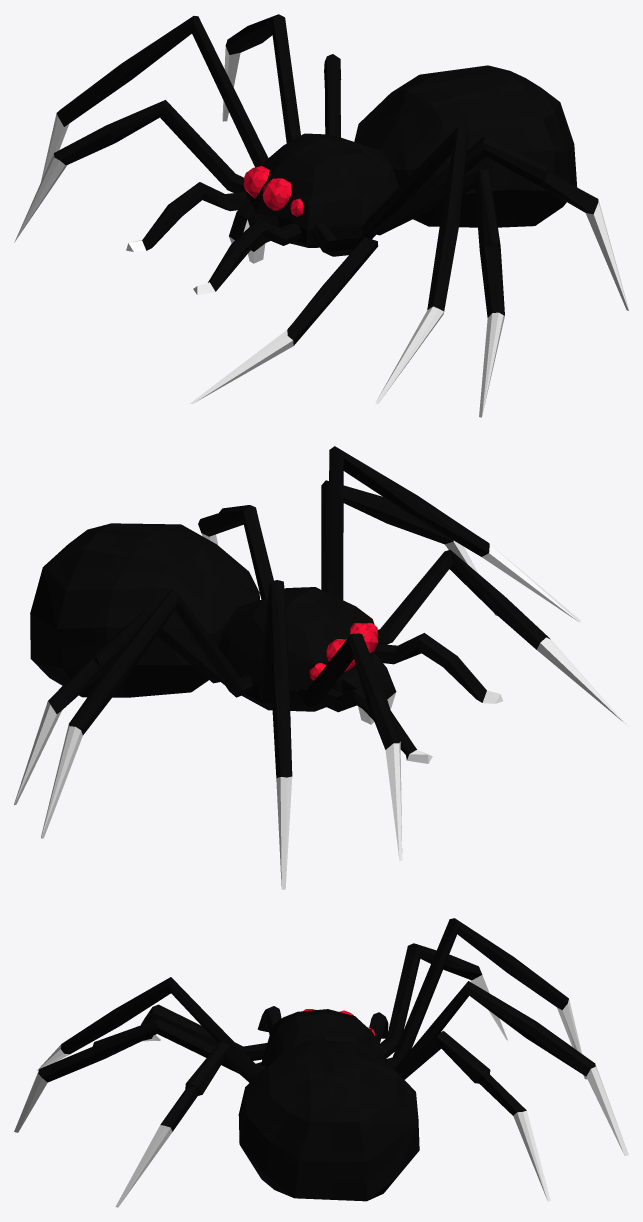
File: spiderWalking3.obj
The picture shows the model from 3 angles, top to bottom: view 1: azimuth 30°, elevation 25°; view 2: azimuth 150°, elevation 25°; view 3: azimuth 270°, elevation 25°; orthographic projection. The views are drawn at different scales.
Parts seen in each view (by area): view 1: Cube.001_Cube.002; view 2: Cube.001_Cube.002; view 3: Cube.001_Cube.002.
Boxes of the visible parts, bbox=[...] form: Cube.001_Cube.002: bbox=[14, 14, 628, 417]; Cube.001_Cube.002: bbox=[14, 446, 628, 889]; Cube.001_Cube.002: bbox=[14, 918, 628, 1207].
Size of the model in its own units: 26.51 by 12.39 by 34.81.
